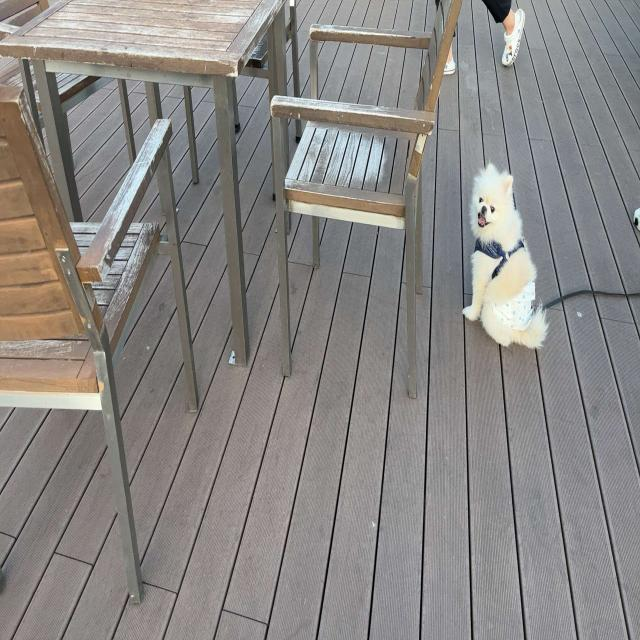Dog: (463, 158, 549, 350)
